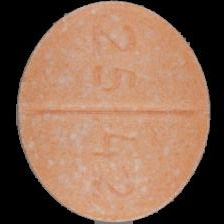53808-0947: (0, 0, 224, 224)
